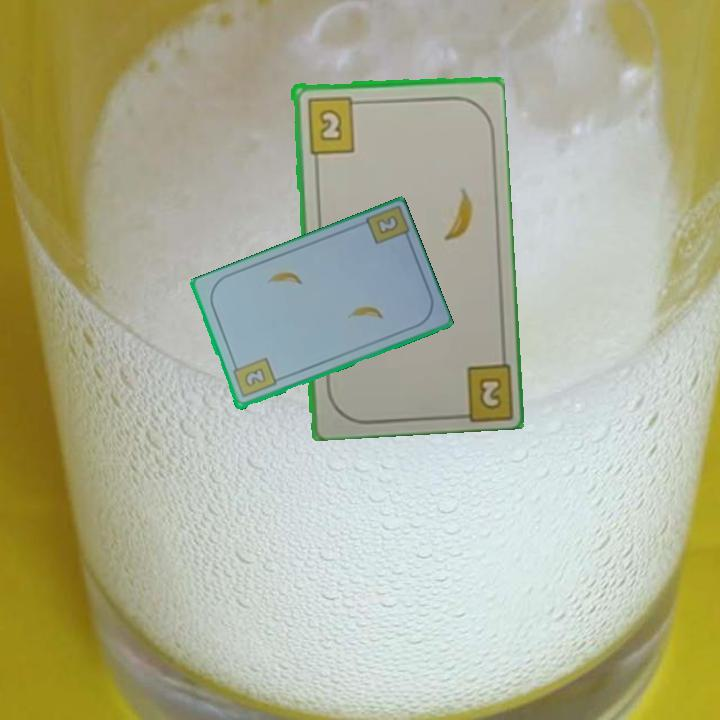2b: (303, 92, 364, 156), (229, 355, 279, 401), (475, 373, 504, 413), (372, 212, 401, 238)
